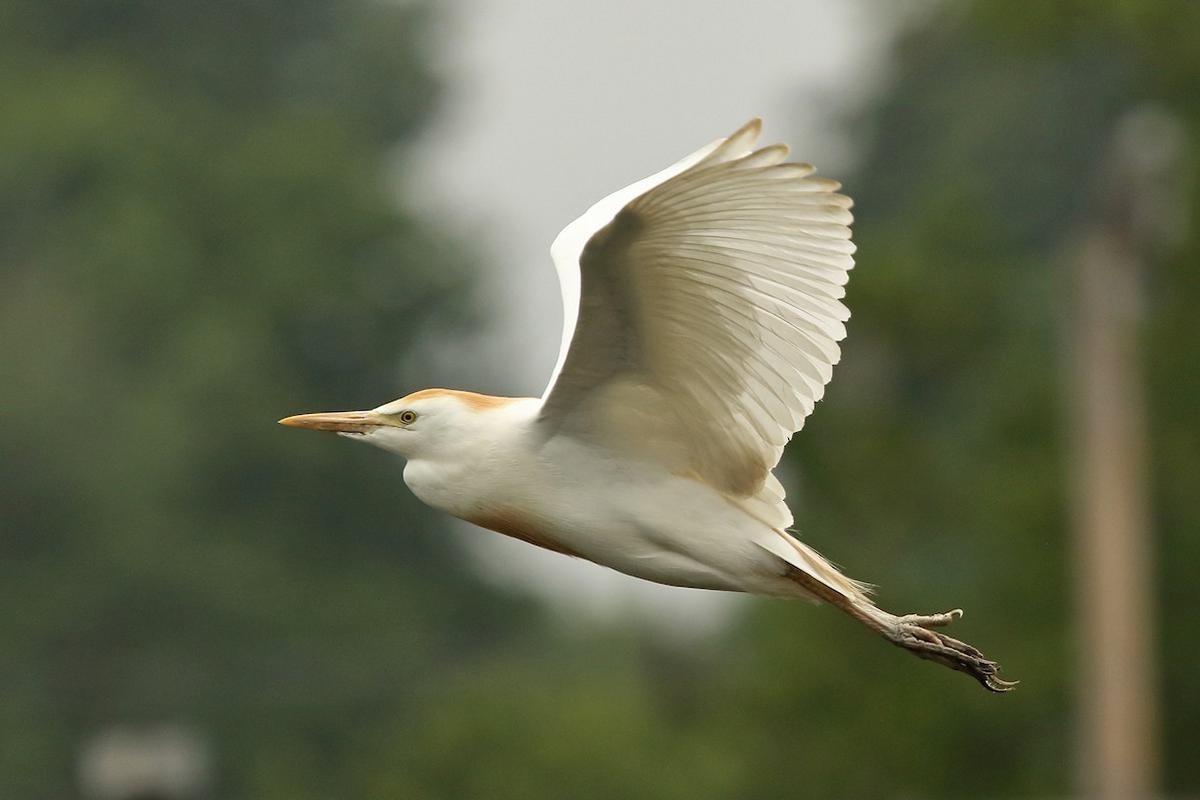egret: (263, 136, 1020, 738)
